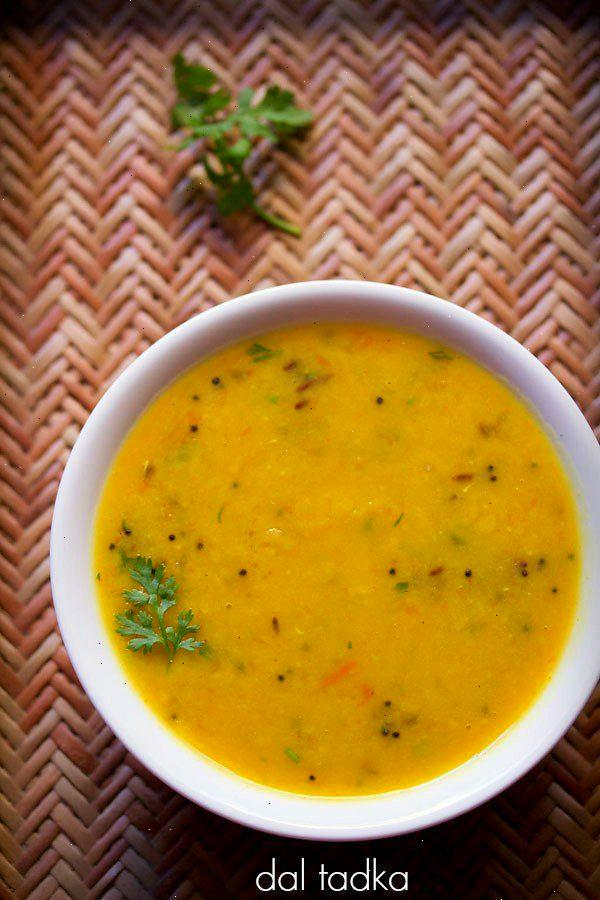daal: (144, 367, 574, 787)
